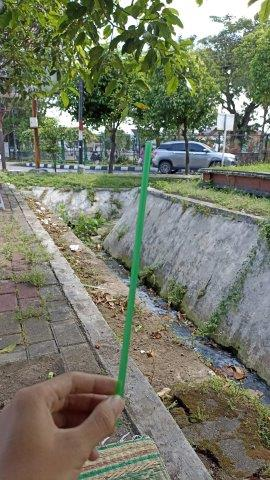sedotan: (116, 143, 151, 394)
